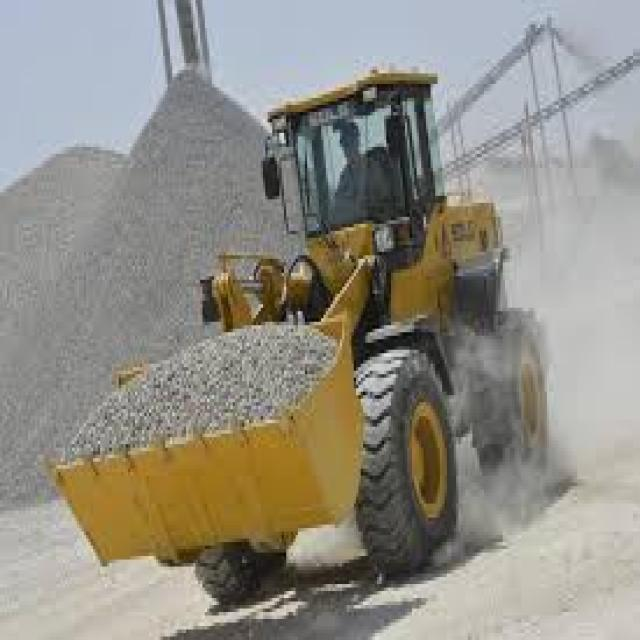buldozerpayloadergrader: (45, 58, 553, 595)
